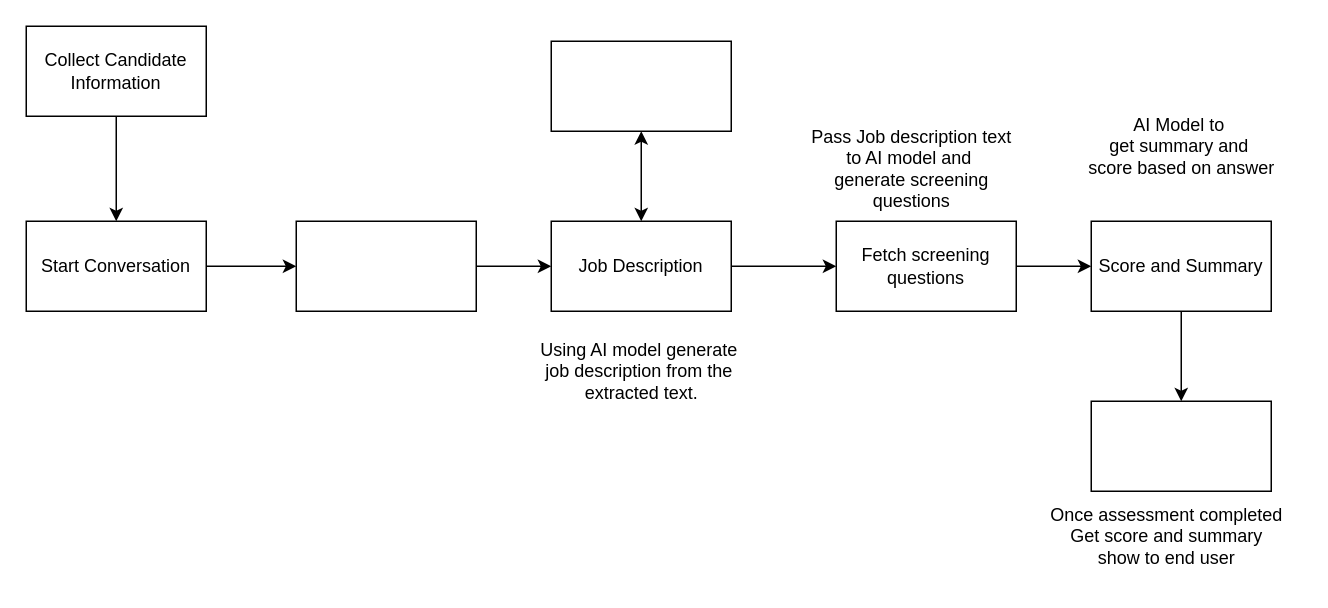
This 1328x608 diagram has some shape labels left out. Here are the shapes that lost their labels. From the top down, the centre of each, then its label:
At (640,85): "Retry until job description".
At (385,265): "Fetch Candidate Information".
At (1180,445): "End Conversation".
